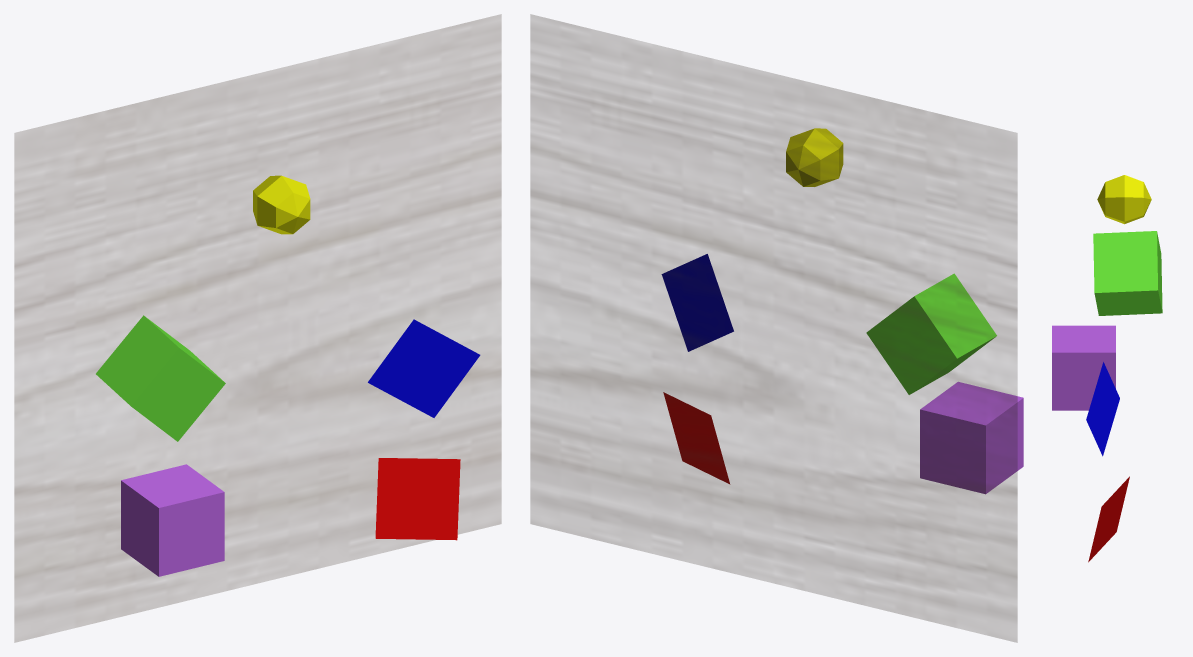
File: walnut2.gltf
The picture shows the model from 3 angles, left to right: view 1: azimuth 30°, elevation 25°; view 2: azimuth 150°, elevation 25°; view 3: azimuth 270°, elevation 25°; orthographic projection. The views are drawn at different scales.
Parts seen in each view (by area): view 1: walnut, Cube, Cube.001, Plane.001, Plane.002, Sphere; view 2: walnut, Cube, Cube.001, Plane.002, Plane.001, Sphere; view 3: Cube.001, Cube, Sphere, Plane.002, Plane.001.
Part boxes in pixels (<box>): walnut: <box>14,14,501,642</box>; Cube: <box>121,464,224,576</box>; Cube.001: <box>96,315,225,441</box>; Plane.001: <box>375,458,460,540</box>; Plane.002: <box>368,319,480,417</box>; Sphere: <box>253,175,310,234</box>; walnut: <box>530,14,1017,642</box>; Cube: <box>920,381,1023,494</box>; Cube.001: <box>866,273,996,394</box>; Plane.002: <box>661,254,733,351</box>; Plane.001: <box>663,392,730,484</box>; Sphere: <box>786,128,843,186</box>; Cube.001: <box>1093,231,1162,315</box>; Cube: <box>1052,325,1115,410</box>; Sphere: <box>1097,175,1151,224</box>; Plane.002: <box>1086,362,1119,456</box>; Plane.001: <box>1088,476,1129,562</box>.
Bounding box in the file's own units: 10 × 10 × 2.68.
6 materials, 1 textured.
